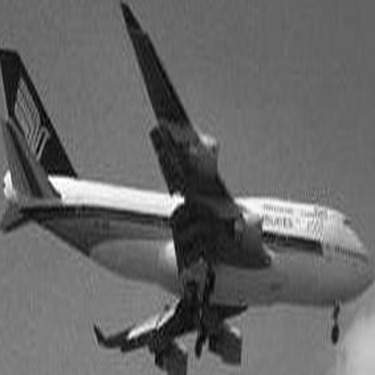airplane: (2, 9, 370, 371)
